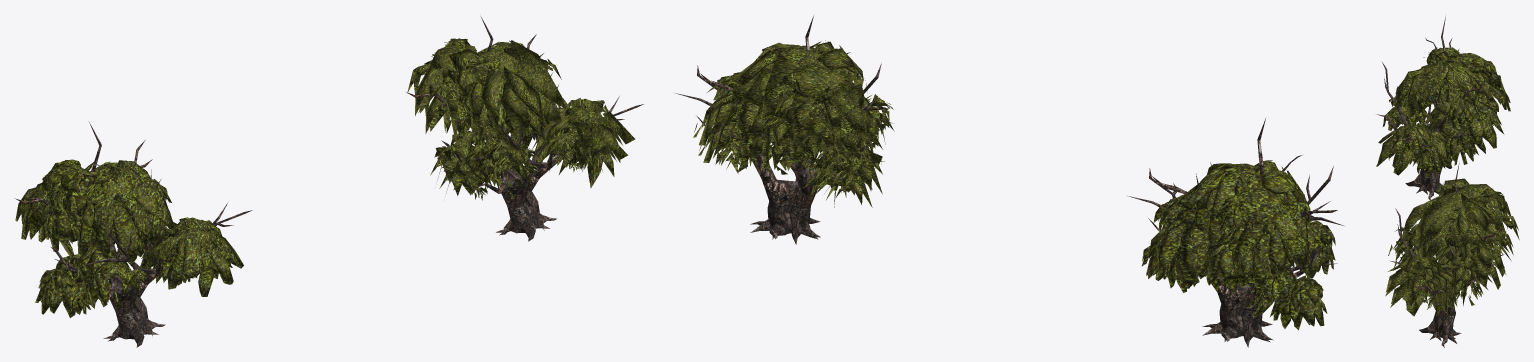
Rendered from arvore.fbx.
The picture shows the model from 3 angles, left to right: view 1: azimuth 30°, elevation 25°; view 2: azimuth 150°, elevation 25°; view 3: azimuth 270°, elevation 25°; orthographic projection. The views are drawn at different scales.
Parts seen in each view (by area): view 1: Cylinder.004, Cylinder.003, Cylinder.001, Line01.001, Line01; view 2: Cylinder.004, Cylinder.003, Cylinder.001, Line01, Line01.001; view 3: Cylinder.004, Cylinder.003, Cylinder.001, Line01, Line01.001.
Boxes of the visible parts, x1,y1,x2,y2 form: Cylinder.004: (15,159,243,317); Cylinder.003: (407,38,635,188); Cylinder.001: (418,86,628,200); Line01.001: (15,122,252,347); Line01: (406,16,643,241); Cylinder.004: (1142,160,1335,330); Cylinder.003: (693,40,894,193); Cylinder.001: (698,99,882,207); Line01: (675,15,892,244); Line01.001: (1128,118,1343,347); Cylinder.004: (1376,47,1510,177); Cylinder.003: (1385,178,1519,305); Cylinder.001: (1390,207,1513,316); Line01: (1389,163,1504,347); Line01.001: (1377,16,1490,200).
Bounding box in the file's own units: 16081 × 5549 × 4390.
